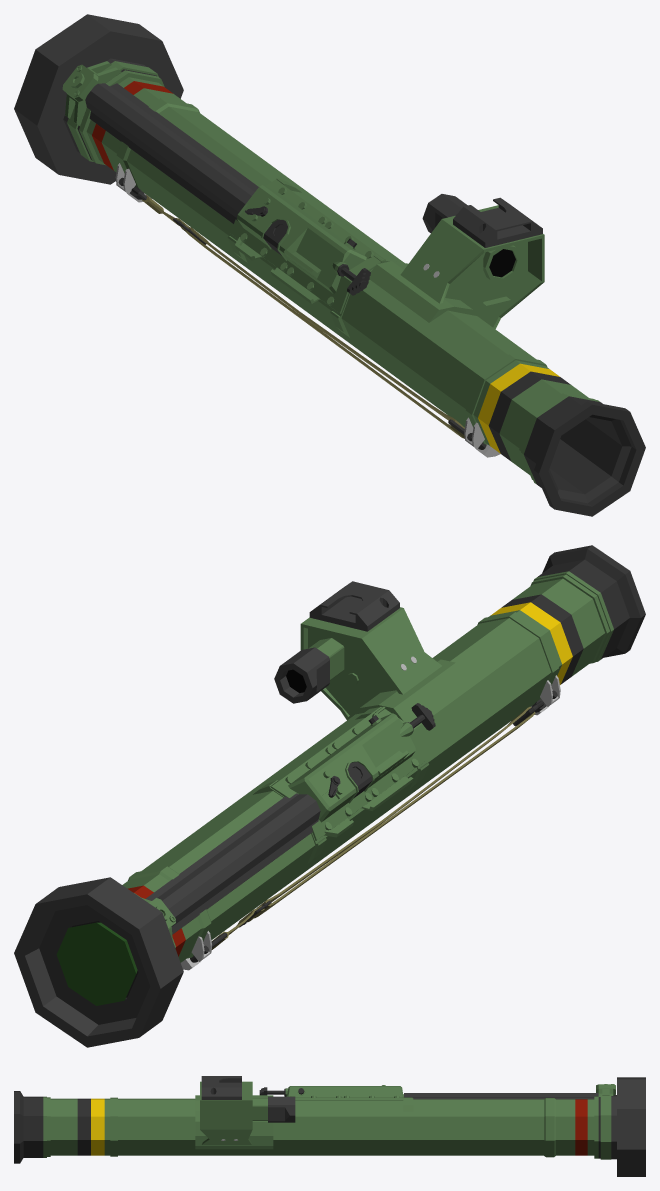
3 views of the same model, one above another, from view 1: azimuth 30°, elevation 25°; view 2: azimuth 150°, elevation 25°; view 3: azimuth 270°, elevation 25° (orthographic). The views are drawn at different scales.
Parts seen in each view (by area): view 1: Object_2, Object_8, Object_7, Object_9, Object_4, Object_5, Object_3; view 2: Object_2, Object_8, Object_7, Object_10, Object_9, Object_4, Object_5; view 3: Object_2, Object_8, Object_7, Object_4, Object_3.
Part boxes in pixels (bbox=[...]): Object_2: bbox=[62, 61, 599, 484]; Object_8: bbox=[14, 14, 542, 247]; Object_7: bbox=[77, 69, 645, 516]; Object_9: bbox=[142, 195, 464, 438]; Object_4: bbox=[478, 363, 559, 453]; Object_5: bbox=[115, 163, 500, 457]; Object_3: bbox=[92, 81, 172, 170]; Object_2: bbox=[122, 571, 613, 962]; Object_8: bbox=[14, 581, 399, 1047]; Object_7: bbox=[39, 545, 645, 1024]; Object_10: bbox=[56, 922, 137, 1005]; Object_9: bbox=[211, 706, 535, 949]; Object_4: bbox=[491, 602, 572, 684]; Object_5: bbox=[181, 656, 560, 970]; Object_2: bbox=[43, 1081, 615, 1159]; Object_8: bbox=[201, 1076, 645, 1176]; Object_7: bbox=[14, 1087, 600, 1163]; Object_4: bbox=[91, 1098, 104, 1155]; Object_3: bbox=[575, 1099, 587, 1155].
Bounding box in the file's own units: 0.245 × 0.2479 × 1.23.
